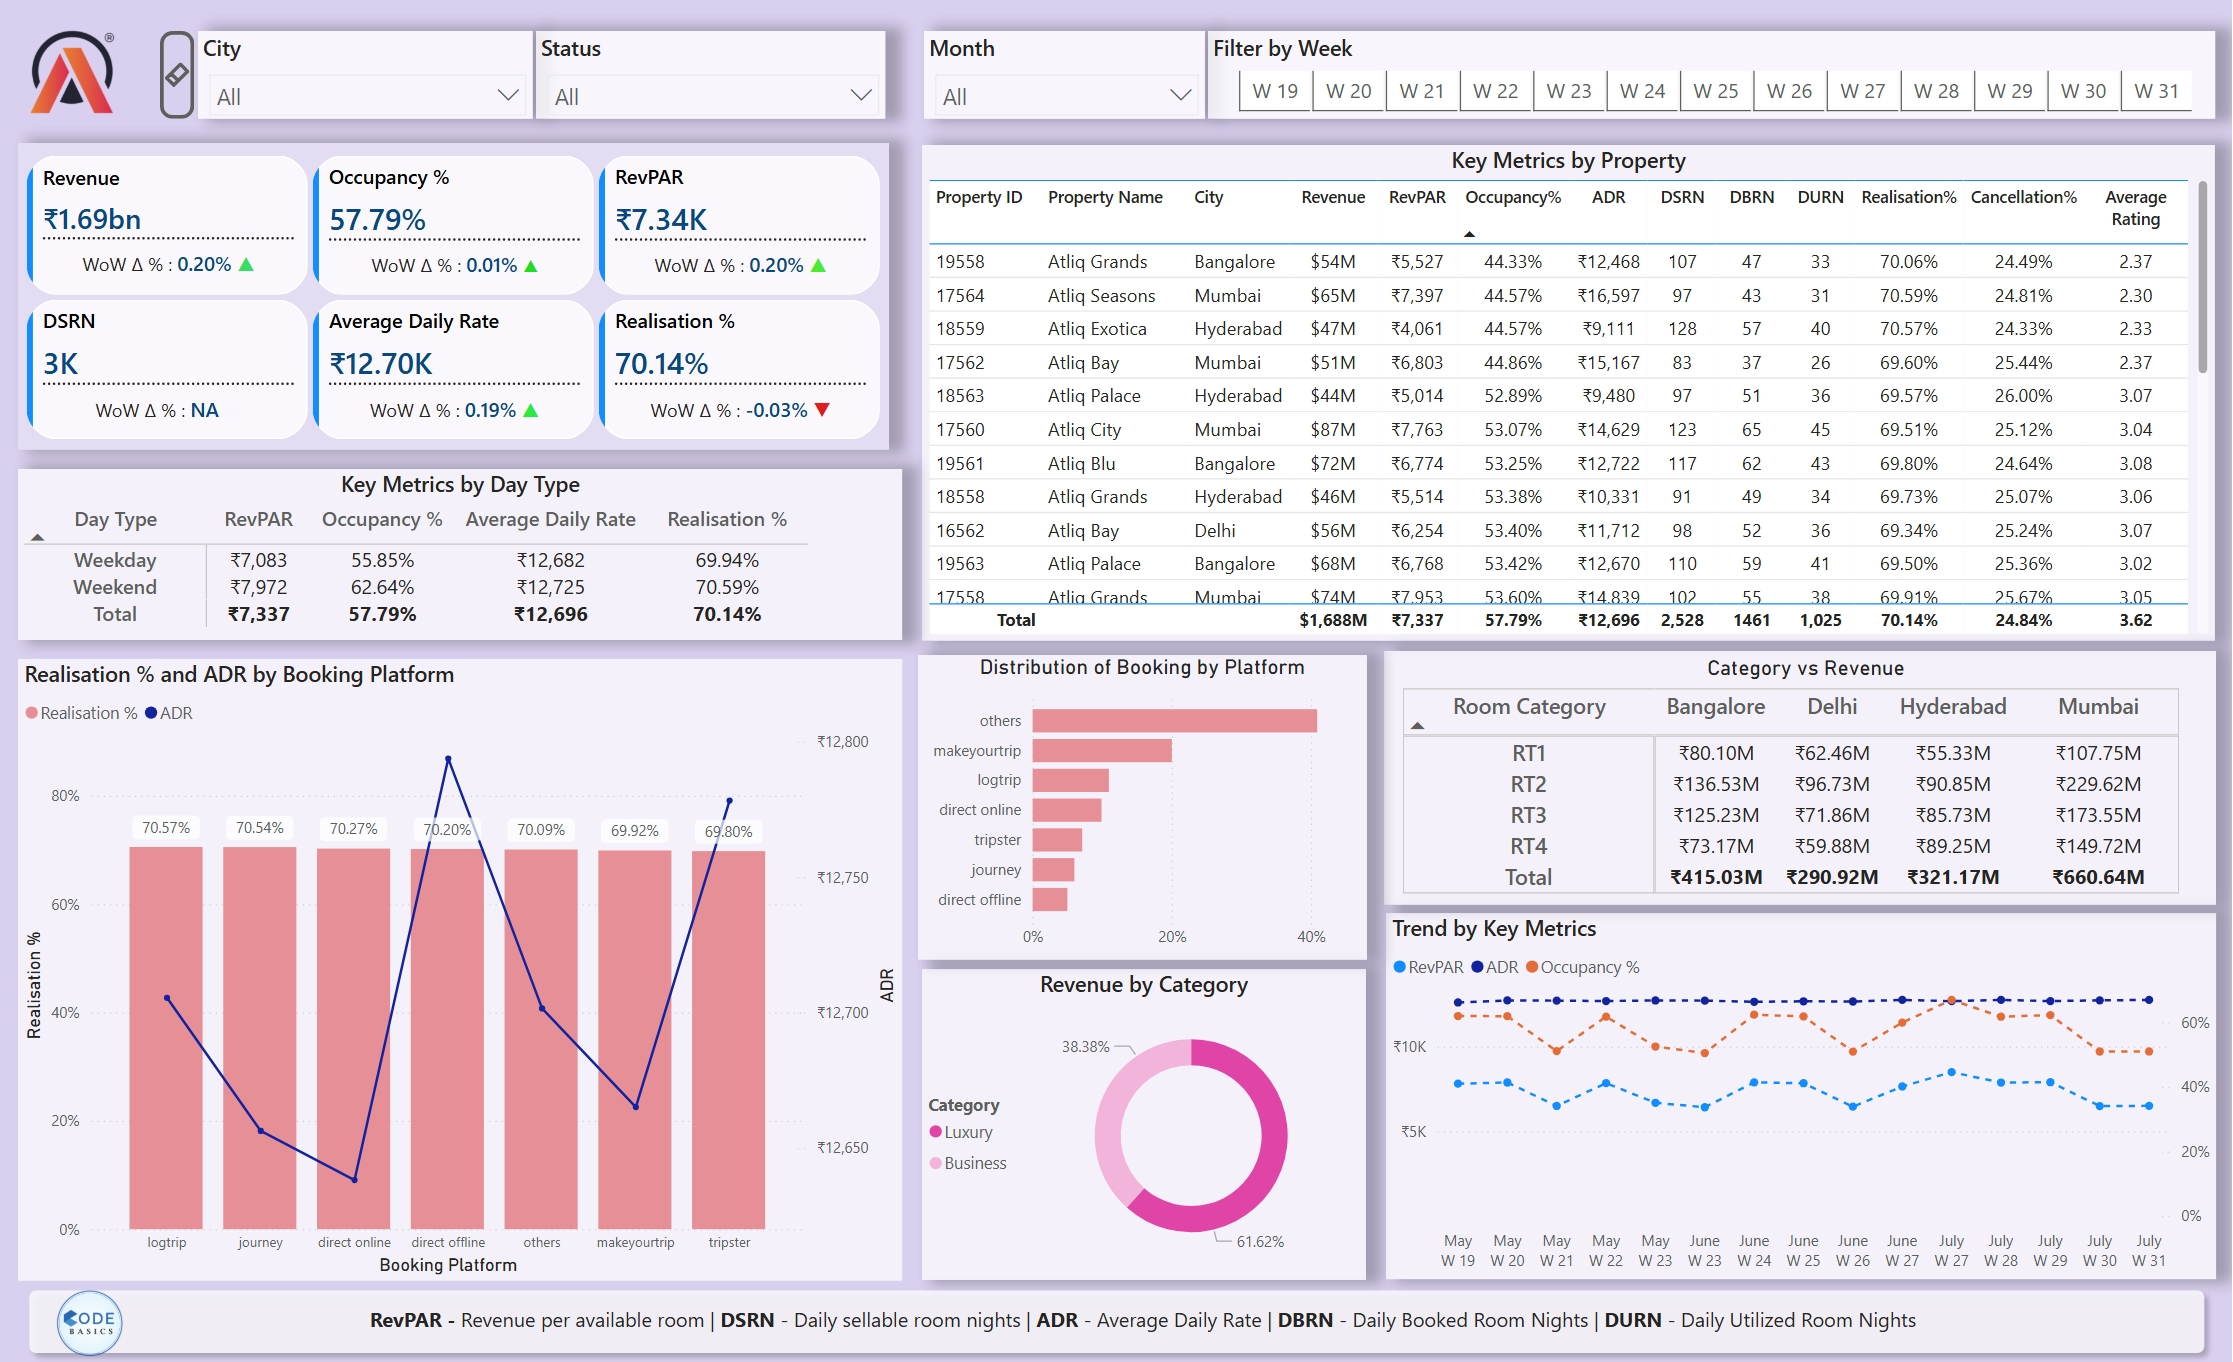

This screenshot's page, from the dashboard's own definition file:
{"tool":"powerbi","page":{"name":"Performance Dashboard","canvas":[1800,1100],"ordinal":0},"visuals":[{"type":"tableEx","title":"Key Metrics by Property","fields":{"Values":["dim_hotels.property_id","dim_hotels.property_name","dim_hotels.city","key_measures.Revenue","key_measures.RevPAR","key_measures.Occupancy %","key_measures.ADR","key_measures.DSRN","key_measures.DBRN","key_measures.DURN","key_measures.Realisation %","key_measures.Cancellation %"]},"box":[746.6,119,1039.7,398.3],"z":0},{"type":"slicer","title":"City","fields":{"Values":["dim_hotels.city"]},"box":[164,27.6,269,70.7],"z":1000},{"type":"slicer","title":"Month","fields":{"Values":["dim_date.mmm yy"]},"box":[747.1,27.8,226.2,70.4],"z":2000},{"type":"cardVisual","fields":{"Data":["key_measures.Revenue","key_measures.Occupancy %","key_measures.RevPAR","key_measures.DSRN","key_measures.ADR","key_measures.Realisation %"]},"box":[19.4,117.9,700.5,246.4],"z":3000},{"type":"pivotTable","title":"Key Metrics by Day Type","fields":{"Rows":["dim_date.day_type"],"Values":["key_measures.RevPAR","key_measures.Occupancy %","key_measures.ADR","key_measures.Realisation %"]},"box":[19.4,380.2,711,137.3],"z":4000},{"type":"donutChart","title":"Revenue by Category","fields":{"Y":["key_measures.Revenue"],"Category":["dim_hotels.category"]},"box":[746.6,781,356.9,250],"z":5000},{"type":"slicer","title":"Filter by Week","fields":{"Values":["dim_date.Week_no"]},"box":[976.9,27.8,810.1,70.4],"z":6000},{"type":"slicer","title":"Status","fields":{"Values":["fact_bookings.booking_status"]},"box":[436.2,27.6,281,70.7],"z":7000},{"type":"lineStackedColumnComboChart","title":"Realisation % and ADR by Booking Platform","fields":{"Category":["fact_bookings.booking_platform"],"Y":["key_measures.Realisation %"],"Y2":["key_measures.ADR"]},"box":[19.4,531.5,711,499.8],"z":8000},{"type":"lineChart","title":"Trend by Key Metrics","fields":{"Category":["dim_date.mmm yy.Variation.Date Hierarchy.Month","dim_date.Week_no"],"Y":["key_measures.RevPAR","key_measures.ADR"],"Y2":["key_measures.Occupancy %"]},"box":[1119.7,735.9,667.4,294.7],"z":9000},{"type":"shape","box":[19.4,1031.4,1767,68.6],"z":10000},{"type":"textbox","box":[94.5,1047.4,1653.6,38.9],"z":11000},{"type":"image","box":[18.5,20.4,89,77.9],"z":12000},{"type":"image","box":[33.4,1029.6,86.2,70.4],"z":13000},{"type":"actionButton","box":[134,27.6,27.6,70.7],"z":14000},{"type":"pivotTable","title":"Category vs Revenue","fields":{"Rows":["dim_rooms.room_id"],"Columns":["dim_hotels.city"],"Values":["key_measures.Revenue"]},"box":[1118,526,669,204],"z":15000},{"type":"clusteredBarChart","title":"Distribution of Booking by Platform","fields":{"Y":["key_measures.Booking % by Platform"],"Category":["fact_bookings.booking_platform"]},"box":[743.1,529,361,245],"z":16000}]}

Visuals, with their boxes in screenshot pixels (x1, y1, x2, y2), scaled from the page's 1800x1100 canvas onto the 2233x1362 screenshot:
"Key Metrics by Property" tableEx: pyautogui.locateOnScreen(926, 147, 2216, 641)
"City" slicer: pyautogui.locateOnScreen(203, 34, 537, 122)
"Month" slicer: pyautogui.locateOnScreen(927, 34, 1207, 122)
cardVisual - key_measures.Revenue x key_measures.Occupancy %: pyautogui.locateOnScreen(24, 146, 893, 451)
"Key Metrics by Day Type" pivotTable: pyautogui.locateOnScreen(24, 471, 906, 641)
"Revenue by Category" donutChart: pyautogui.locateOnScreen(926, 967, 1369, 1277)
"Filter by Week" slicer: pyautogui.locateOnScreen(1212, 34, 2217, 122)
"Status" slicer: pyautogui.locateOnScreen(541, 34, 890, 122)
"Realisation % and ADR by Booking Platform" lineStackedColumnComboChart: pyautogui.locateOnScreen(24, 658, 906, 1277)
"Trend by Key Metrics" lineChart: pyautogui.locateOnScreen(1389, 911, 2217, 1276)
shape: pyautogui.locateOnScreen(24, 1277, 2216, 1361)
textbox: pyautogui.locateOnScreen(117, 1297, 2169, 1345)
image: pyautogui.locateOnScreen(23, 25, 133, 122)
image: pyautogui.locateOnScreen(41, 1275, 148, 1361)
actionButton: pyautogui.locateOnScreen(166, 34, 200, 122)
"Category vs Revenue" pivotTable: pyautogui.locateOnScreen(1387, 651, 2217, 904)
"Distribution of Booking by Platform" clusteredBarChart: pyautogui.locateOnScreen(922, 655, 1370, 958)
